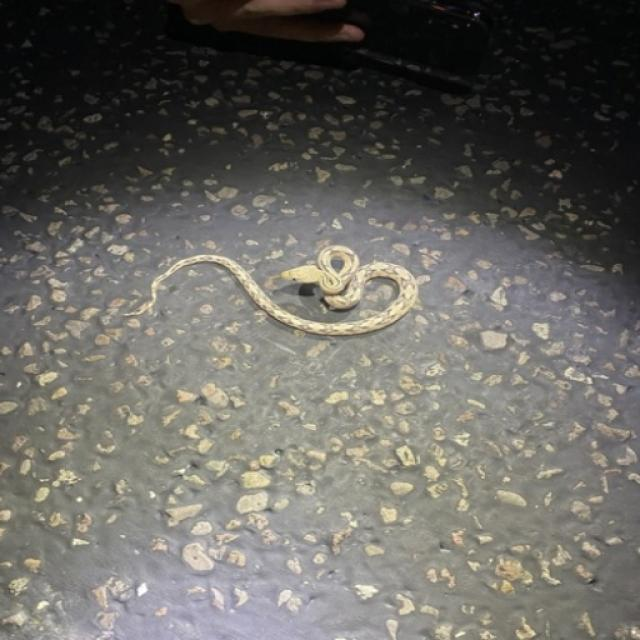snake: (141, 230, 432, 348)
